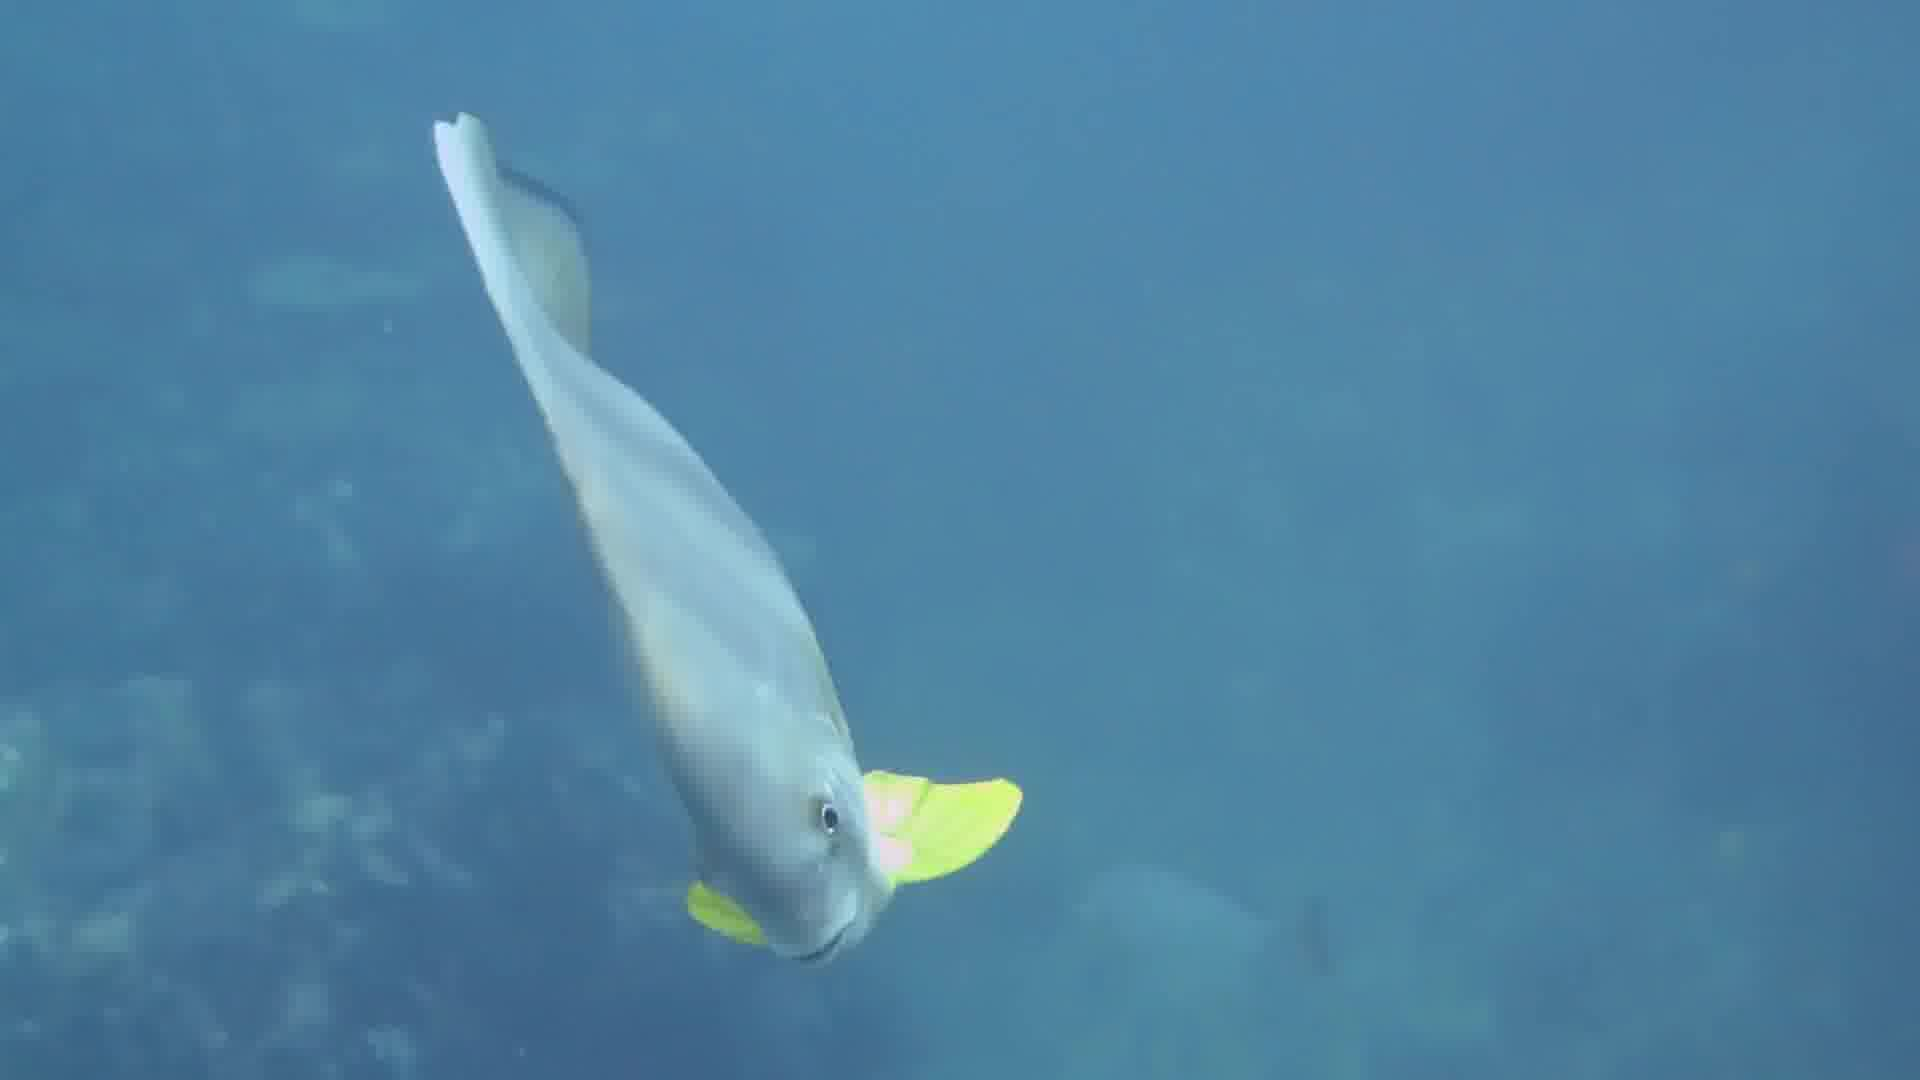Platax teira: (377, 76, 1071, 1001)
